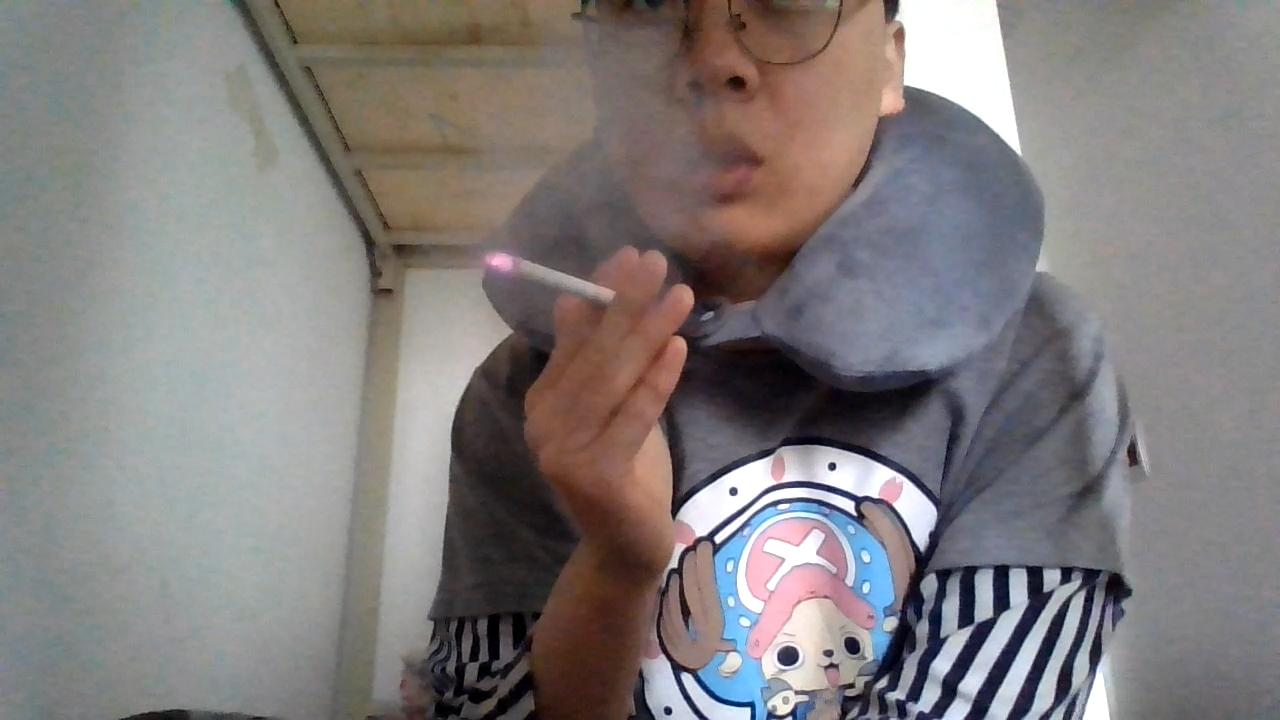yanwu: (499, 36, 720, 271)
